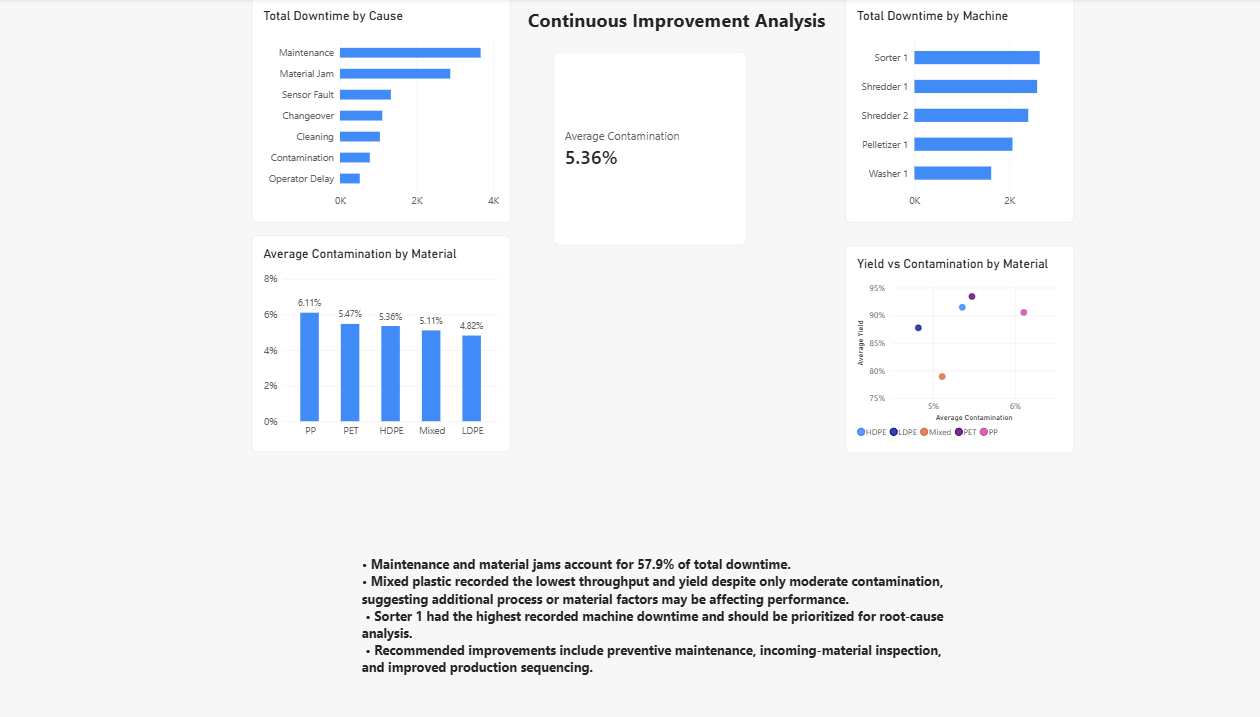

The page's visual inventory and layout, read from the dashboard file:
{"tool":"powerbi","page":{"name":"Page 2","canvas":[1920,1080],"ordinal":1},"visuals":[{"type":"cardVisual","fields":{"Data":["quality_records.Average Contamination"]},"box":[890.4,77.8,280,280],"z":0},{"type":"clusteredBarChart","title":"Total Downtime by Cause","fields":{"Category":["downtime_events.Downtime_Reason"],"Y":["Sum(downtime_events.Downtime_Duration)"]},"box":[453.7,0,375,325.3],"z":1},{"type":"clusteredBarChart","title":"Total Downtime by Machine","fields":{"Category":["downtime_events.Machine"],"Y":["Sum(downtime_events.Downtime_Duration)"]},"box":[1313.8,0,331.2,325.3],"z":2},{"type":"clusteredColumnChart","title":"Average Contamination by Material","fields":{"Category":["processing_batches.Material"],"Y":["quality_records.Average Contamination"]},"box":[453.7,344.3,375,313.7],"z":3},{"type":"scatterChart","title":"Yield vs Contamination by Material","fields":{"Series":["processing_batches.Material"],"X":["quality_records.Average Contamination"],"Y":["processing_batches.Average Yield"]},"box":[1313.8,358.3,331.2,300.5],"z":4},{"type":"textbox","box":[613.5,807.1,874.1,231.6],"z":5},{"type":"textbox","box":[854.2,12.7,436.1,45.2],"z":6}]}

Visuals, with their boxes in screenshot pixels (x1, y1, x2, y2), scaled from the page's 1920x1080 canvas onto the 1260x717 screenshot:
cardVisual - quality_records.Average Contamination: select_region(584, 52, 768, 238)
"Total Downtime by Cause" clusteredBarChart: select_region(298, 0, 544, 216)
"Total Downtime by Machine" clusteredBarChart: select_region(862, 0, 1080, 216)
"Average Contamination by Material" clusteredColumnChart: select_region(298, 229, 544, 437)
"Yield vs Contamination by Material" scatterChart: select_region(862, 238, 1080, 437)
textbox: select_region(403, 536, 976, 690)
textbox: select_region(561, 8, 847, 38)
